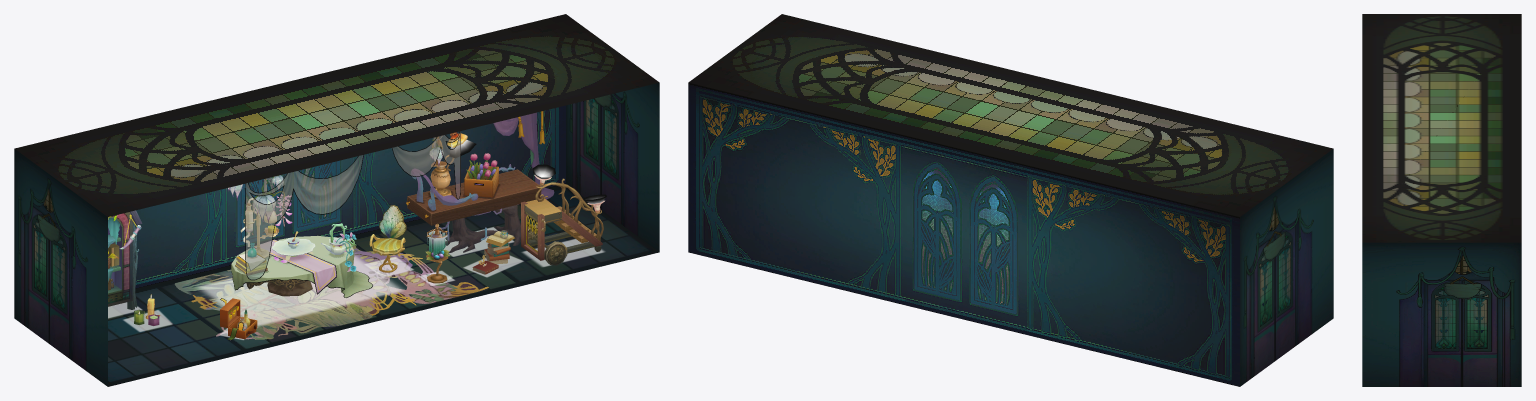
File: lightArt.glb
3 views of the same model, side by side, from view 1: azimuth 30°, elevation 25°; view 2: azimuth 150°, elevation 25°; view 3: azimuth 270°, elevation 25° (orthographic). The views are drawn at different scales.
Parts seen in each view (by area): view 1: ROOM_room, ROOM_floor, furni_lightArt_carpet_01, furni_lightArt_platform_01, furni_lightArt_ceiling_L_02, furni_lightArt_table_02, shadow.004, furni_lightArt_ladder_01, furni_lightArt_table_01, furni_lightArt_cabinet_01, furni_lightArt_ceiling_S_02, ROOM_LDoor (+7 smaller); view 2: ROOM_room, ROOM_LDoor; view 3: ROOM_room, ROOM_RDoor.
Part boxes in pixels (bbox=[...]): ROOM_room: bbox=[14, 14, 659, 386]; ROOM_floor: bbox=[108, 186, 659, 386]; furni_lightArt_carpet_01: bbox=[174, 244, 488, 340]; furni_lightArt_platform_01: bbox=[406, 132, 541, 253]; furni_lightArt_ceiling_L_02: bbox=[245, 155, 363, 280]; furni_lightArt_table_02: bbox=[231, 194, 372, 297]; shadow.004: bbox=[197, 254, 403, 326]; furni_lightArt_ladder_01: bbox=[521, 175, 604, 265]; furni_lightArt_table_01: bbox=[235, 191, 356, 296]; furni_lightArt_cabinet_01: bbox=[108, 210, 142, 309]; furni_lightArt_ceiling_S_02: bbox=[392, 131, 460, 199]; ROOM_LDoor: bbox=[75, 286, 94, 376]; ROOM_room: bbox=[688, 14, 1333, 386]; ROOM_LDoor: bbox=[1300, 251, 1319, 341]; ROOM_room: bbox=[1362, 14, 1521, 386]; ROOM_RDoor: bbox=[1385, 321, 1418, 386].
Size of the model in its own units: 7.48 by 2.2 by 2.2.
Materials: 8 (8 with a texture image).
